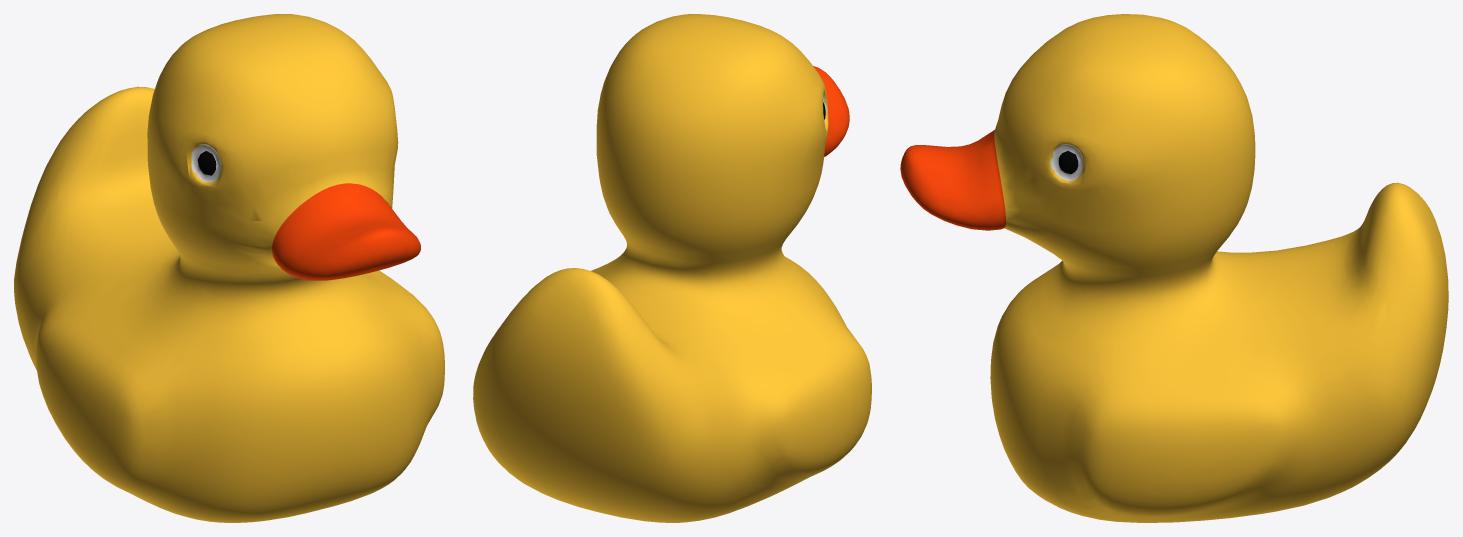
The model's file is Patito_low.glb.
3 views of the same model, side by side, from view 1: azimuth 30°, elevation 25°; view 2: azimuth 150°, elevation 25°; view 3: azimuth 270°, elevation 25° (orthographic). The views are drawn at different scales.
Parts seen in each view (by area): view 1: Patito; view 2: Patito; view 3: Patito.
Boxes of the visible parts, box(x1,y1,x2,y2) form: Patito: box(14, 14, 444, 522); Patito: box(473, 14, 871, 522); Patito: box(900, 14, 1448, 522).
Bounding box in the file's own units: 0.237 × 0.3083 × 0.3393.
